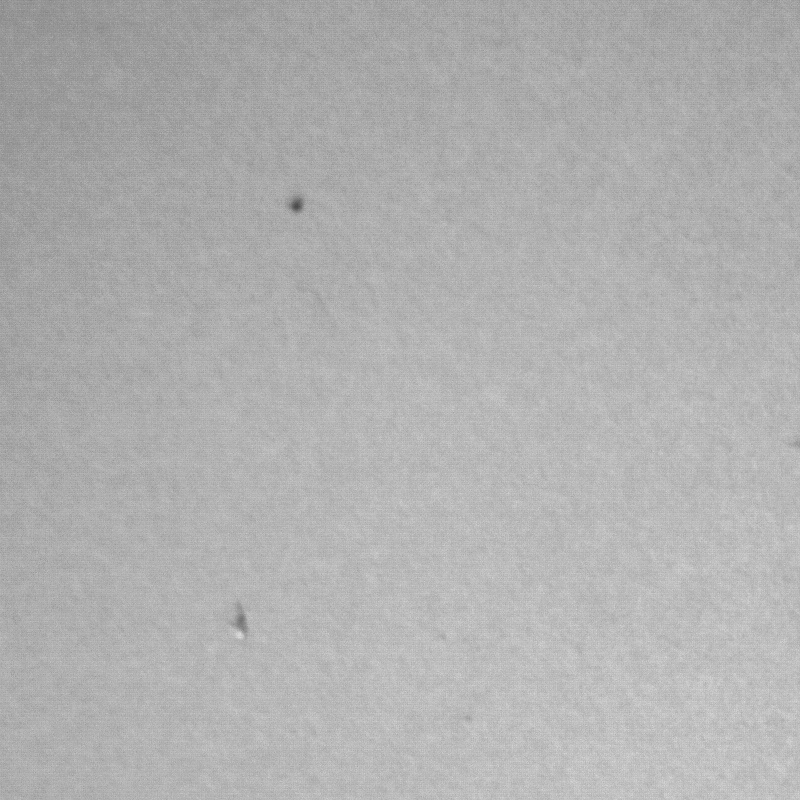defect: (230, 604, 254, 641), (283, 195, 310, 215)
